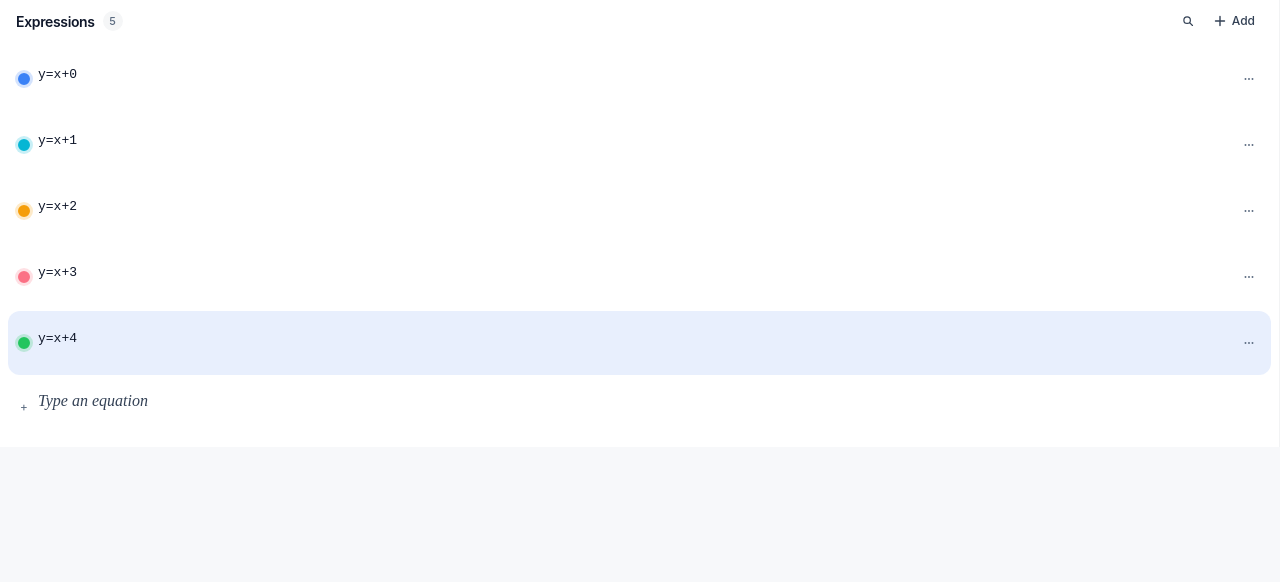
equation entry continuity › waits for completion before revealing the finder at six objects
The image size is (1280, 582).
Type "y=x+5" into the field named "New equation" at [612, 403], box [38, 387, 1185, 419]
Wait 350 ms
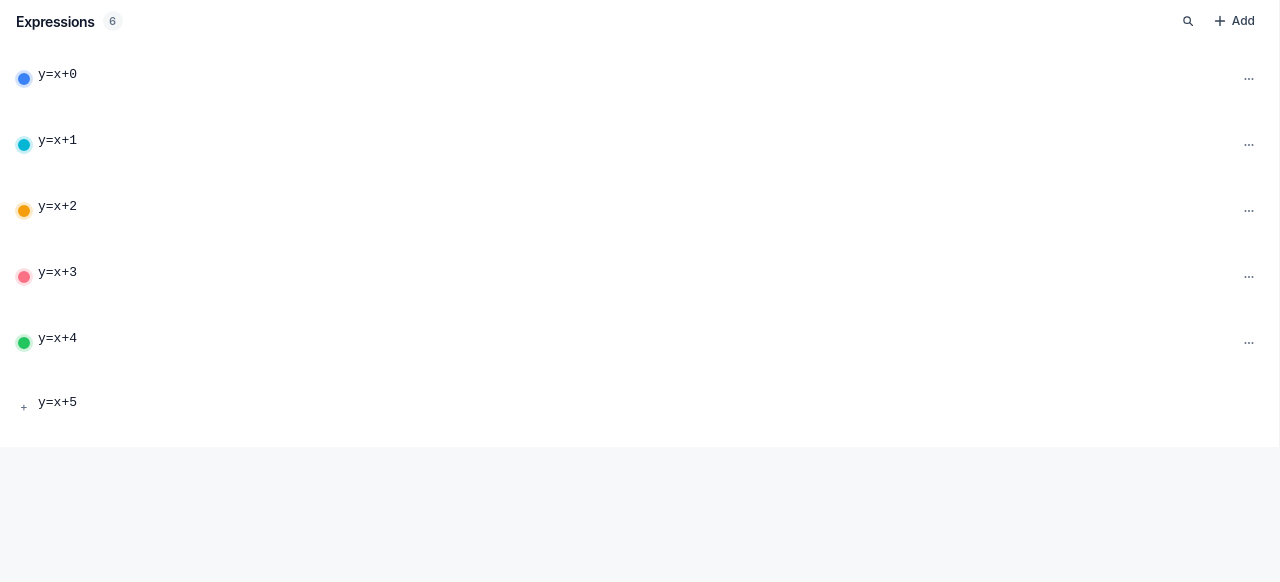
Press Enter in the field named "New equation", box [38, 387, 1185, 419]
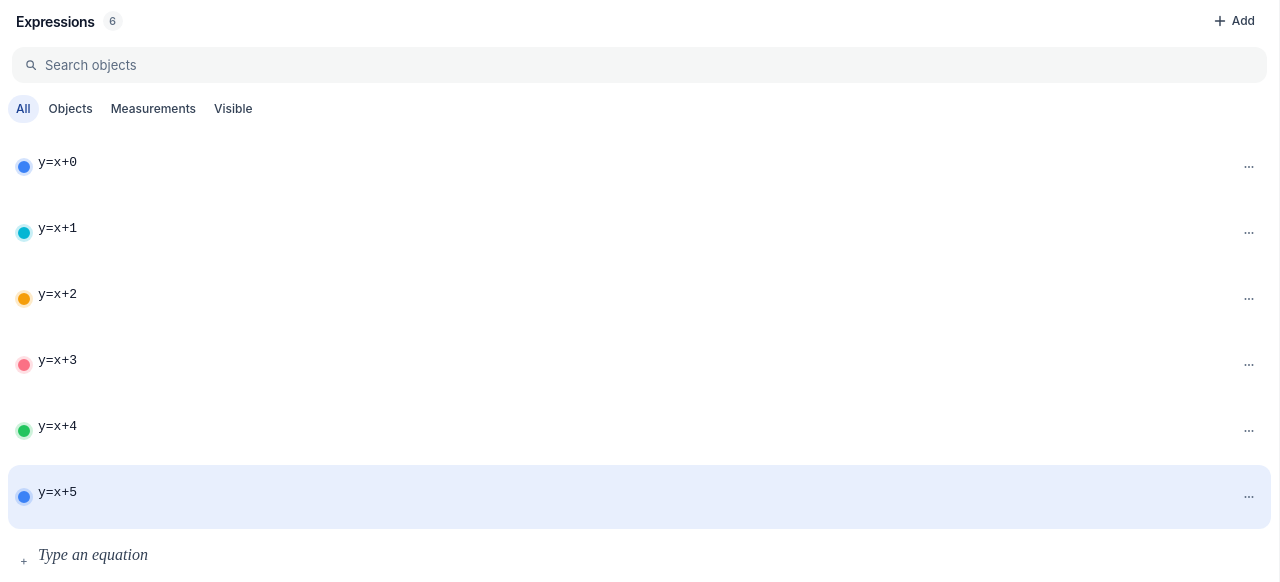
Result: the element named "Object list filter" is shown at [8, 95, 261, 123]
